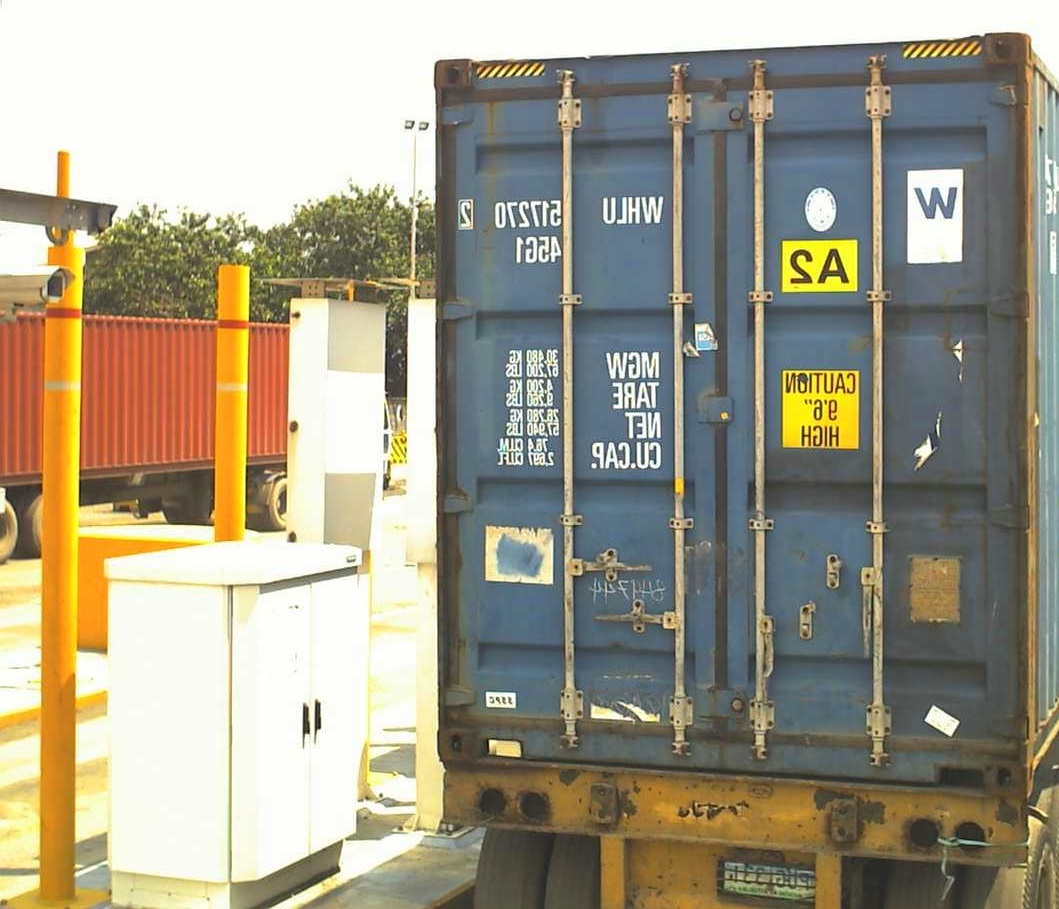container_door: (415, 36, 1027, 800)
